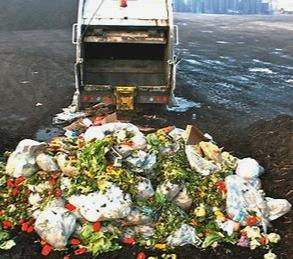organic: (77, 139, 110, 176), (156, 202, 188, 230), (90, 236, 111, 255), (165, 164, 188, 181), (202, 233, 222, 248), (218, 232, 239, 245), (80, 224, 93, 240), (154, 189, 167, 205), (204, 220, 220, 232)
